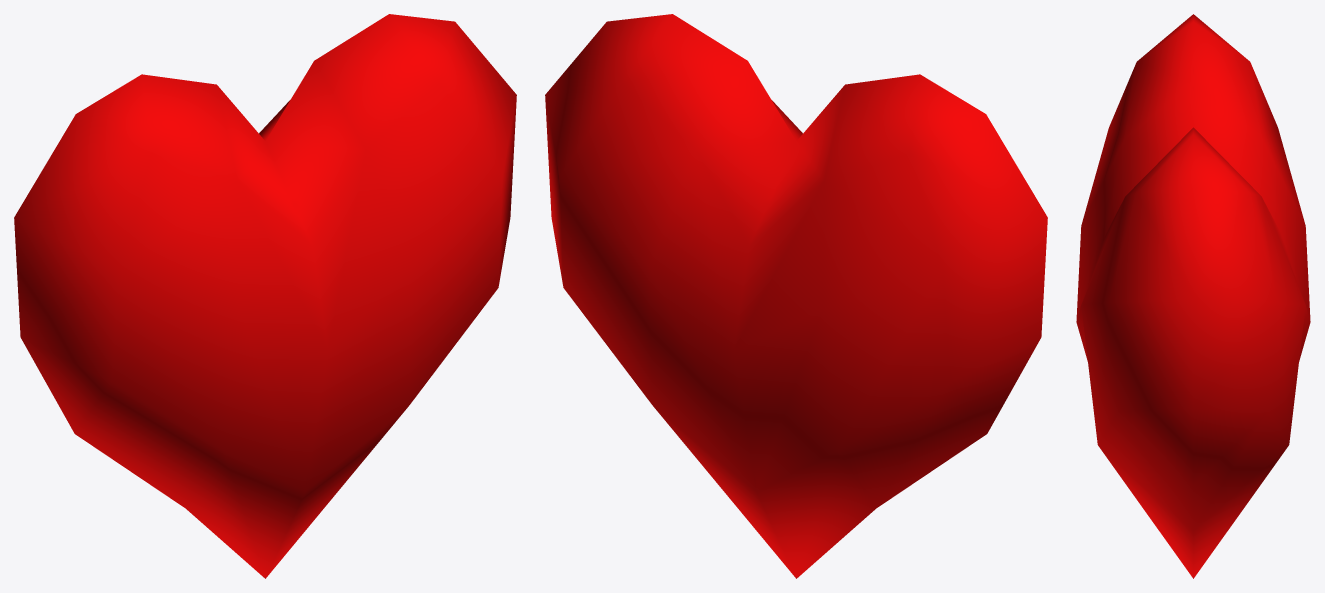
The model's file is Boost_double_life.FBX.
The picture shows the model from 3 angles, left to right: view 1: azimuth 30°, elevation 25°; view 2: azimuth 150°, elevation 25°; view 3: azimuth 270°, elevation 25°; orthographic projection. The views are drawn at different scales.
Visible parts, largest first — view 1: Double life; view 2: Double life; view 3: Double life.
Boxes of the visible parts, bbox=[...] form: Double life: bbox=[14, 14, 516, 578]; Double life: bbox=[545, 14, 1047, 578]; Double life: bbox=[1076, 14, 1310, 578].
Size of the model in its own units: 6.23 by 6.34 by 2.69.
